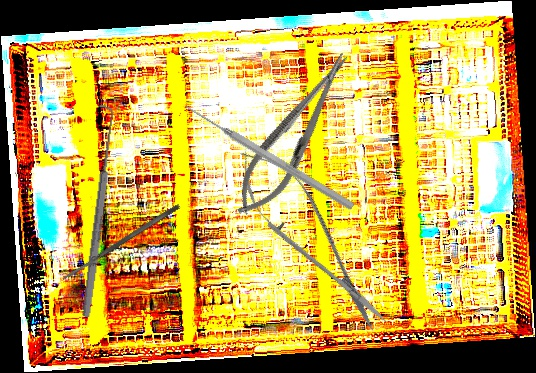Hook Surgical: (73, 104, 119, 318)
Micro Scissor: (221, 134, 403, 345)
Needle Holder: (222, 42, 366, 228)
Pusher: (180, 100, 357, 212)
Spatula Surgical: (59, 202, 182, 283)
